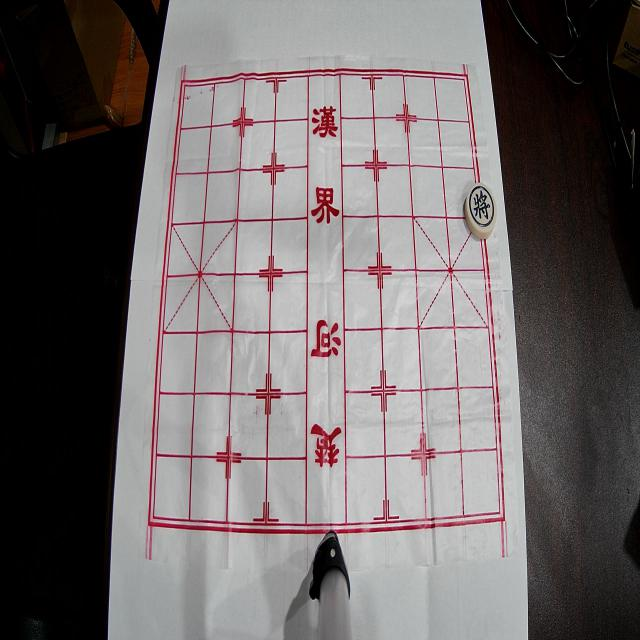black-general: (465, 183, 497, 239)
